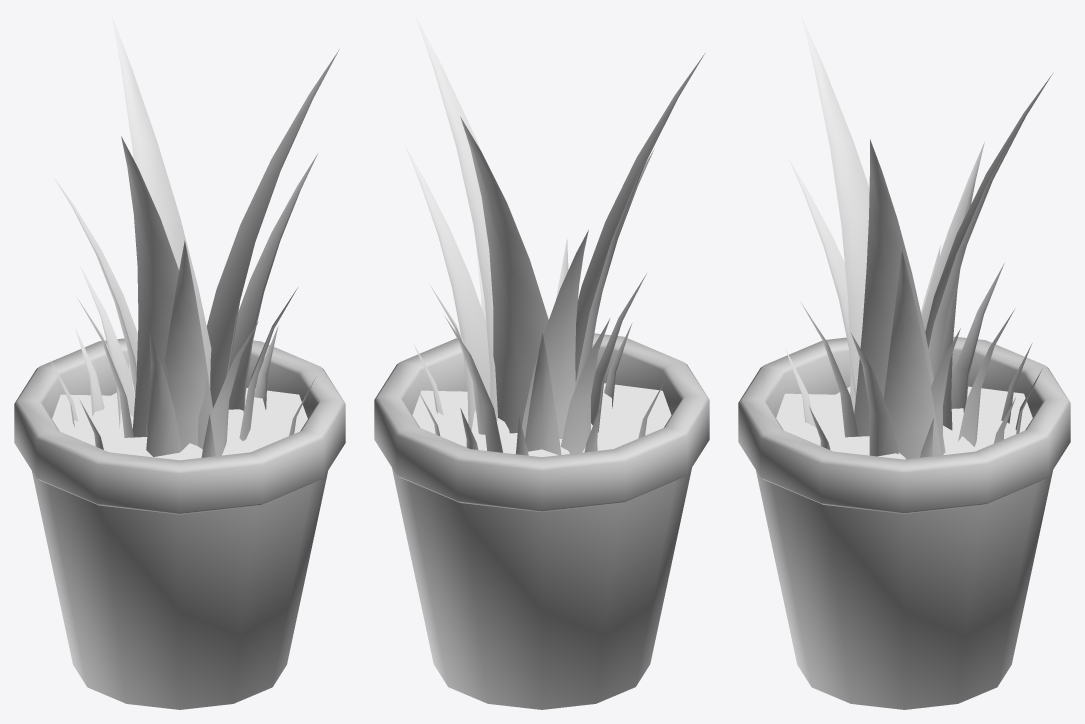
The model's file is Plant Vase 1.fbx.
The picture shows the model from 3 angles, left to right: view 1: azimuth 30°, elevation 25°; view 2: azimuth 150°, elevation 25°; view 3: azimuth 270°, elevation 25°; orthographic projection.
Parts seen in each view (by area): view 1: Plant Vase; view 2: Plant Vase; view 3: Plant Vase.
Boxes of the visible parts, x1,y1,x2,y2 form: Plant Vase: (14, 15, 345, 709); Plant Vase: (374, 15, 709, 709); Plant Vase: (738, 15, 1070, 709).
Bounding box in the file's own units: 0.3268 × 0.6469 × 0.3268.
